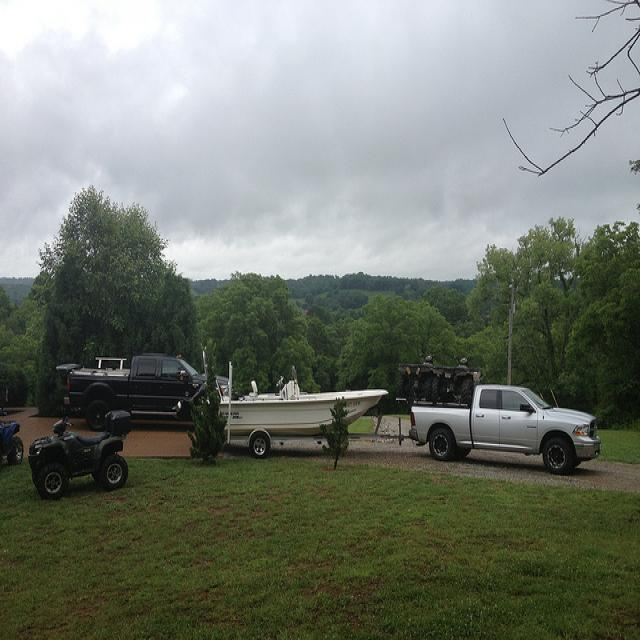motor: (26, 411, 132, 496)
